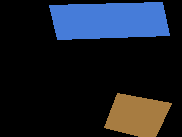parkingspot: (49, 2, 169, 39), (104, 93, 171, 137)
